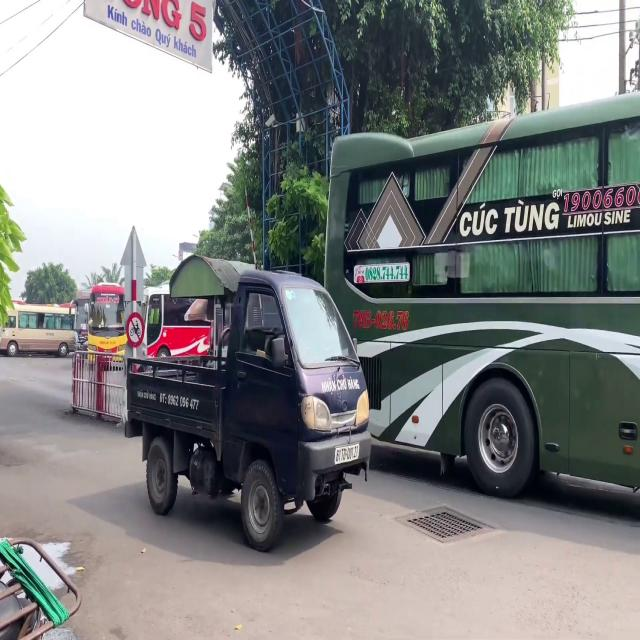bien_trang: (335, 443, 359, 463)
